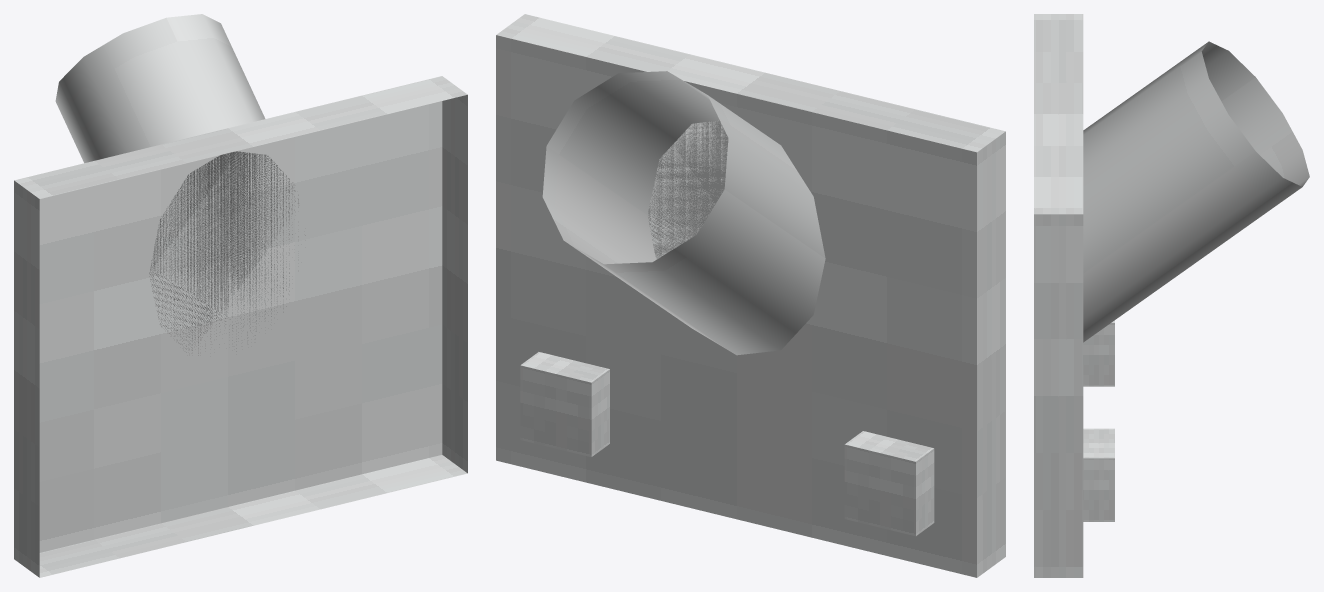
Rendered from luminairearm_truss10ft_c1_wall.obj.
3 views of the same model, side by side, from view 1: azimuth 30°, elevation 25°; view 2: azimuth 150°, elevation 25°; view 3: azimuth 270°, elevation 25° (orthographic). The views are drawn at different scales.
Visible parts, largest first — view 1: luminairearm_truss10ft_c1_wall; view 2: luminairearm_truss10ft_c1_wall; view 3: luminairearm_truss10ft_c1_wall.
Boxes of the visible parts, x1=… form: luminairearm_truss10ft_c1_wall: x1=14, y1=14, x2=467, y2=577; luminairearm_truss10ft_c1_wall: x1=496, y1=14, x2=1005, y2=577; luminairearm_truss10ft_c1_wall: x1=1034, y1=14, x2=1309, y2=577.
Size of the model in its own units: 0.4221 by 0.4183 by 0.2454.
